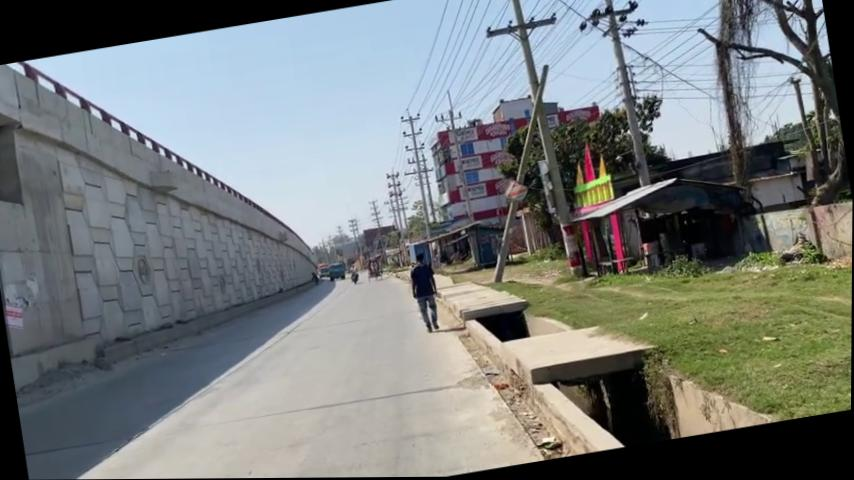Car: (459, 269, 734, 471)
Curb: (349, 269, 359, 284)
Fallen-tree: (0, 20, 320, 377)
Fence: (406, 250, 444, 334)
Garbage: (459, 63, 581, 283), (503, 0, 588, 282)
Garbage-bin: (550, 357, 673, 456)
Railroad-crossing: (692, 0, 853, 220)
